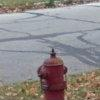Hydrant: (31, 41, 73, 100)
